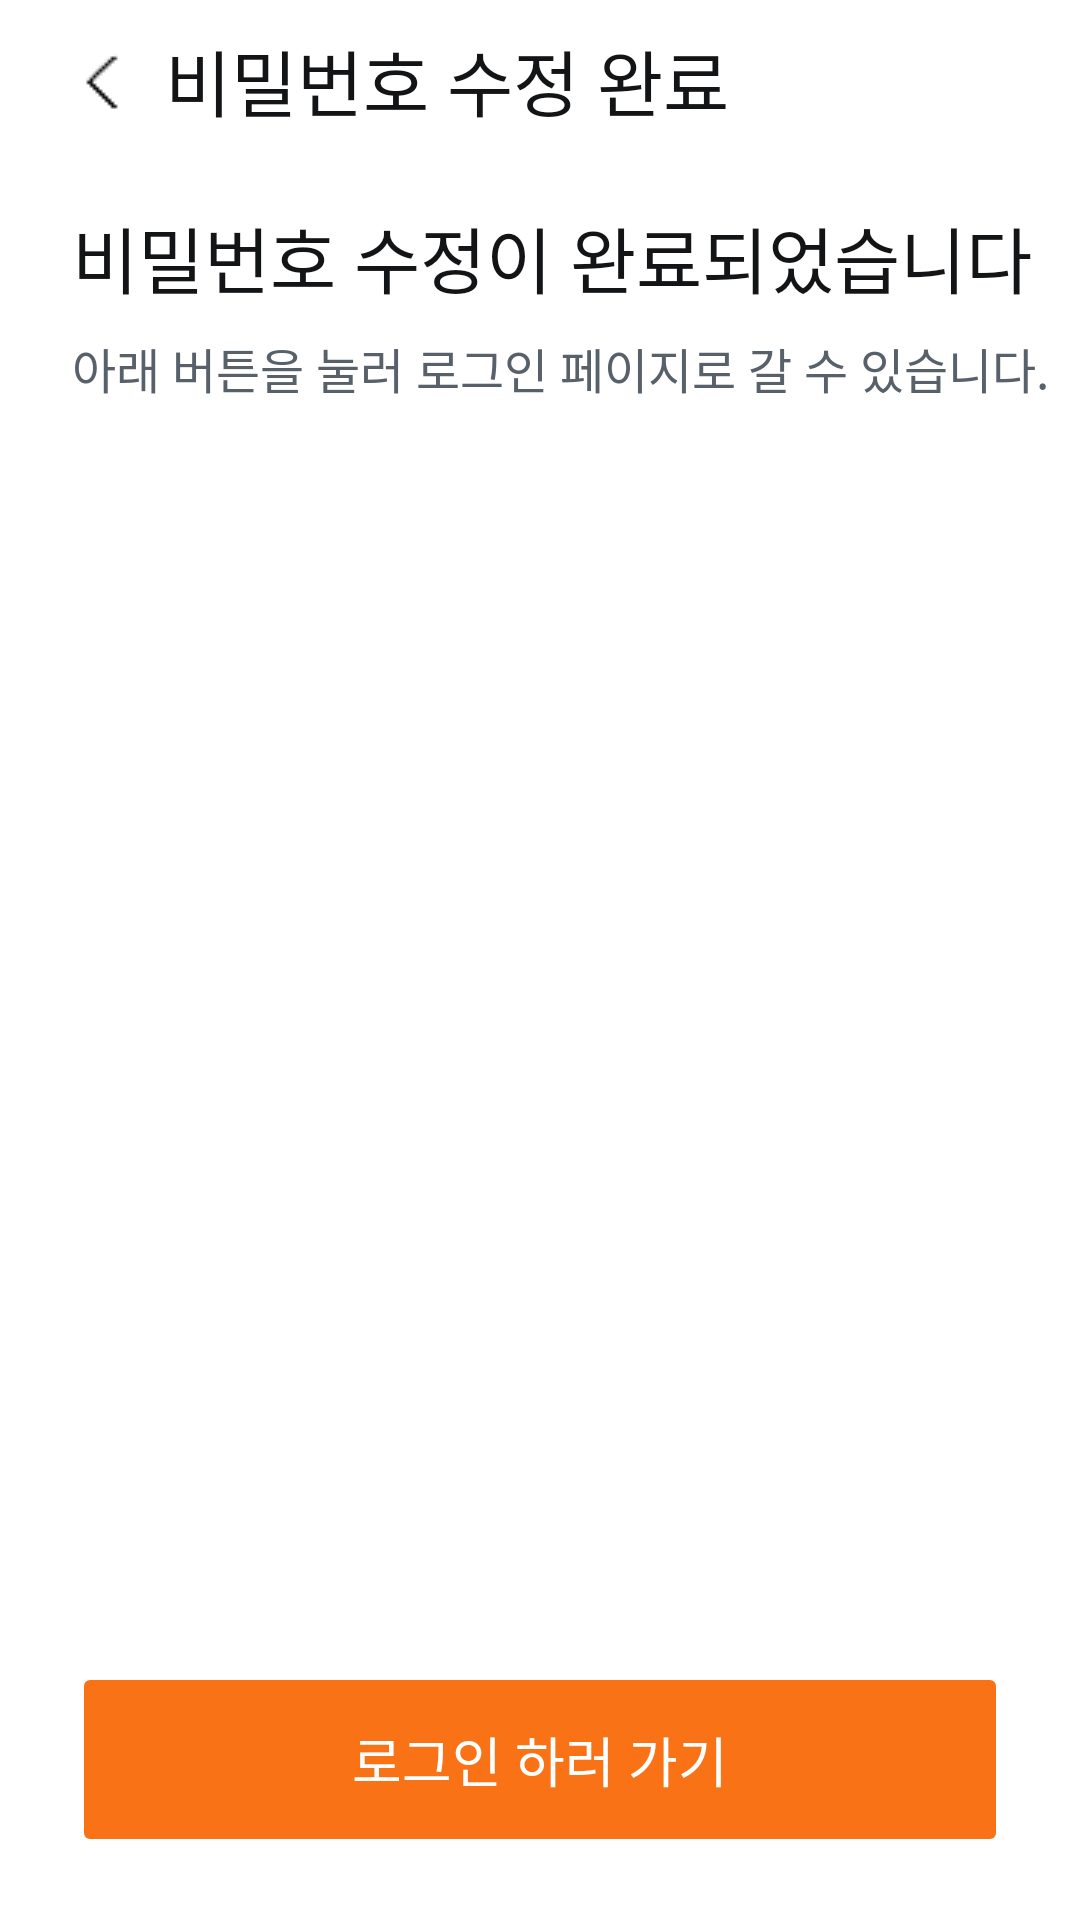

Point at icon controls on the screen. Image size 1080w x 1920h, points as [x,y].
back: [102,82]
